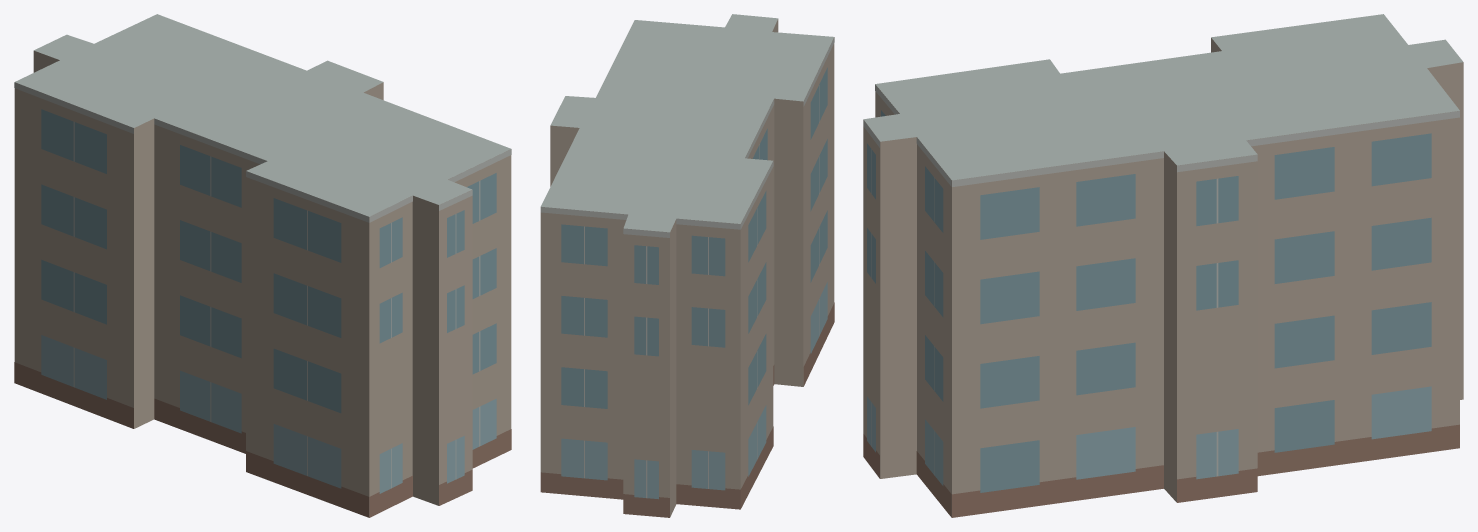
File: survey-upis-32730058.glb
3 renders of one model, left to right at view 1: azimuth 30°, elevation 25°; view 2: azimuth 150°, elevation 25°; view 3: azimuth 270°, elevation 25°, orthographic. The views are drawn at different scales.
Visible parts, largest first — view 1: survey-upis-32730058.tmp; view 2: survey-upis-32730058.tmp; view 3: survey-upis-32730058.tmp.
Part boxes in pixels (bbox=[...]): survey-upis-32730058.tmp: bbox=[14, 14, 511, 517]; survey-upis-32730058.tmp: bbox=[540, 14, 834, 517]; survey-upis-32730058.tmp: bbox=[863, 14, 1463, 517].
Size of the model in its own units: 12.92 by 12.2 by 19.68.
